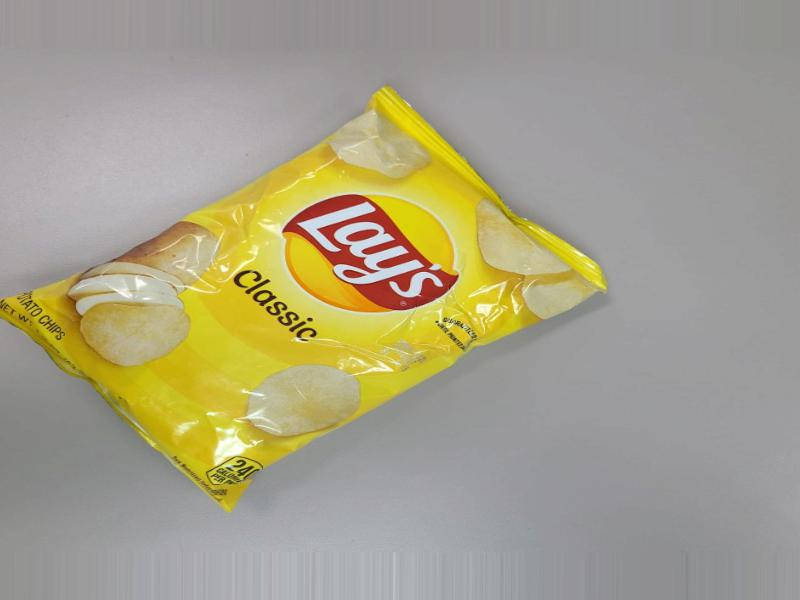lays: (0, 90, 525, 568)
